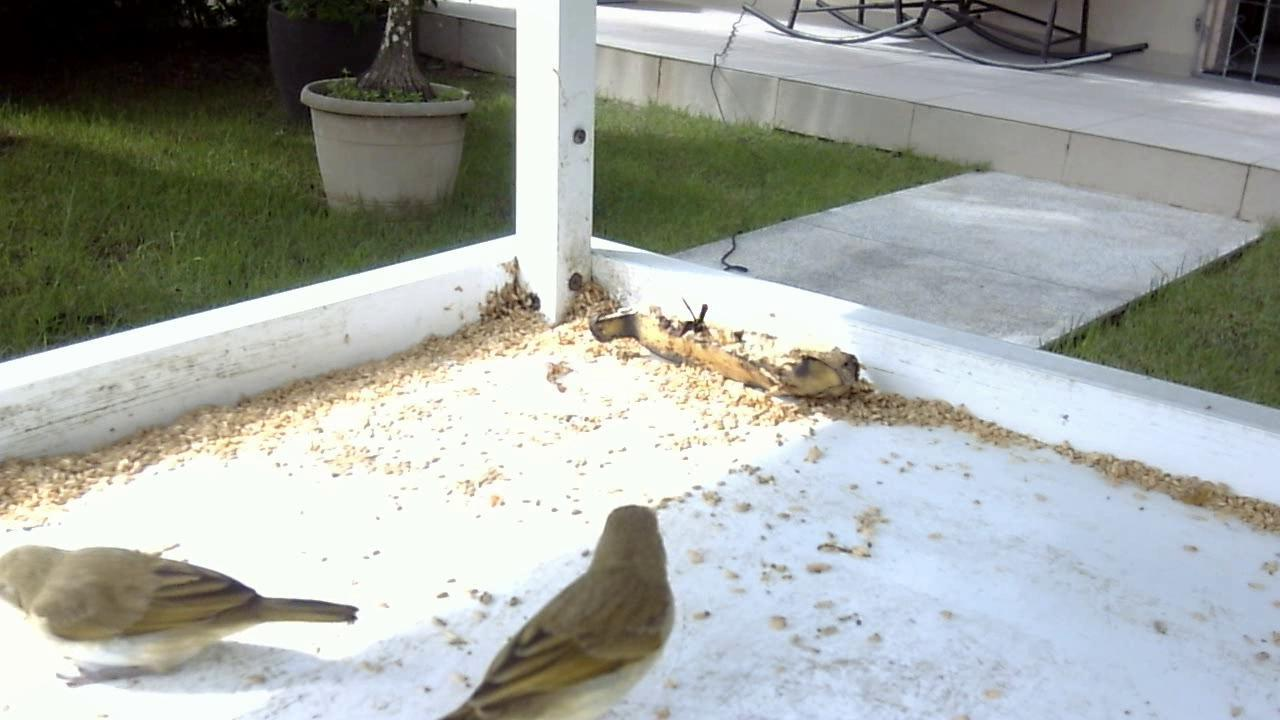canario_do_amazonas: (1, 523, 362, 694), (436, 499, 684, 713)
